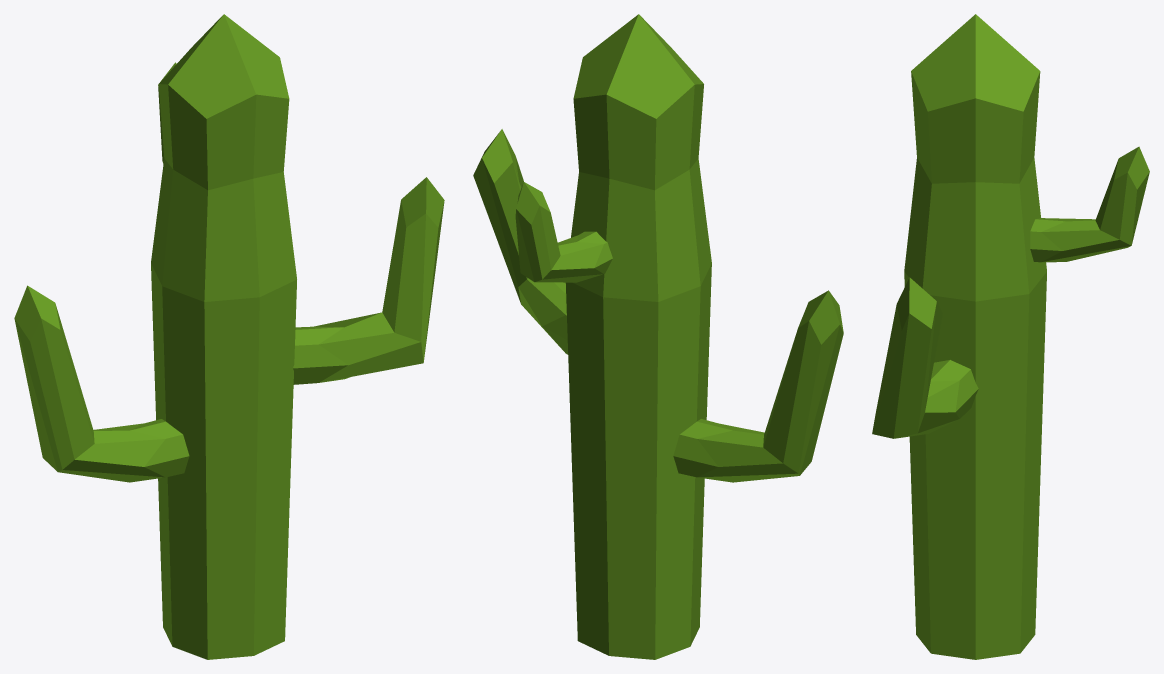
File: Cactus_5.fbx
The picture shows the model from 3 angles, left to right: view 1: azimuth 30°, elevation 25°; view 2: azimuth 150°, elevation 25°; view 3: azimuth 270°, elevation 25°; orthographic projection.
Parts seen in each view (by area): view 1: Cactus5_mesh; view 2: Cactus5_mesh; view 3: Cactus5_mesh.
Part boxes in pixels (left/top/right/bottom): Cactus5_mesh: left=14, top=14, right=444, bottom=659; Cactus5_mesh: left=473, top=14, right=843, bottom=659; Cactus5_mesh: left=872, top=14, right=1149, bottom=659.
Size of the model in its own units: 115 by 173 by 70.03.
